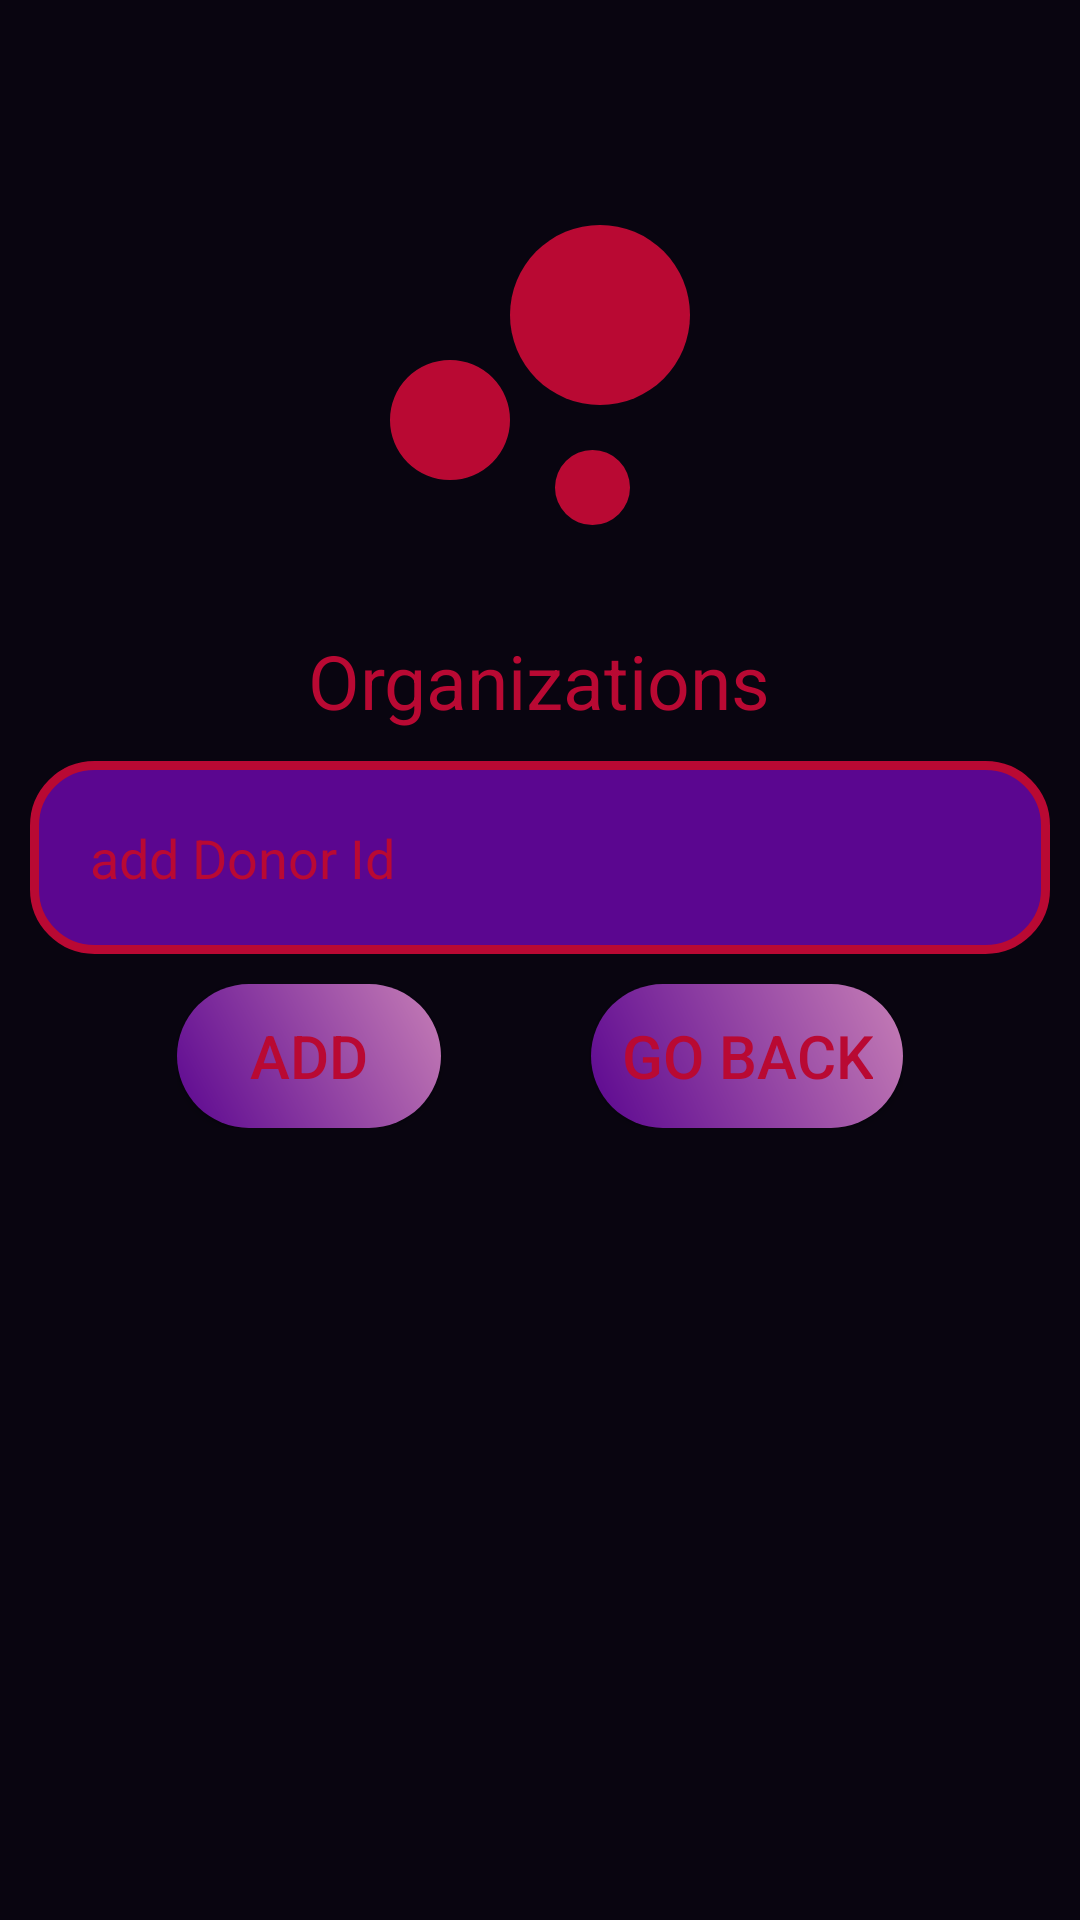

Screen size 1080x1920. Icon name, then its center in pixels as (x,y):
bubble chart: (540,375)
